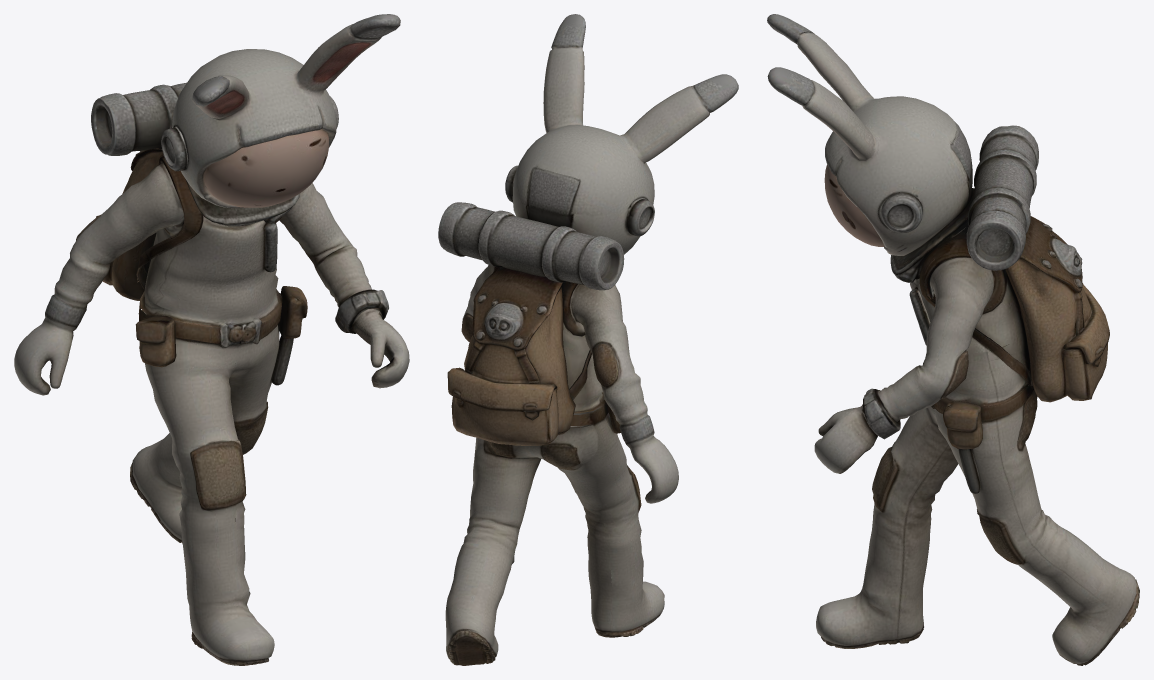
The model's file is astro-walking.glb.
3 renders of one model, left to right at view 1: azimuth 30°, elevation 25°; view 2: azimuth 150°, elevation 25°; view 3: azimuth 270°, elevation 25°, orthographic. The views are drawn at different scales.
Parts seen in each view (by area): view 1: tripo_node_897e0463-844d-4767-8e53-59bc6970e637; view 2: tripo_node_897e0463-844d-4767-8e53-59bc6970e637; view 3: tripo_node_897e0463-844d-4767-8e53-59bc6970e637.
Boxes of the visible parts, box(x1,y1,x2,y2) form: tripo_node_897e0463-844d-4767-8e53-59bc6970e637: box(14, 14, 409, 665); tripo_node_897e0463-844d-4767-8e53-59bc6970e637: box(438, 14, 738, 665); tripo_node_897e0463-844d-4767-8e53-59bc6970e637: box(767, 14, 1139, 665).
Bounding box in the file's own units: 0.477 × 0.9995 × 0.5435.
1 material, 1 textured.
